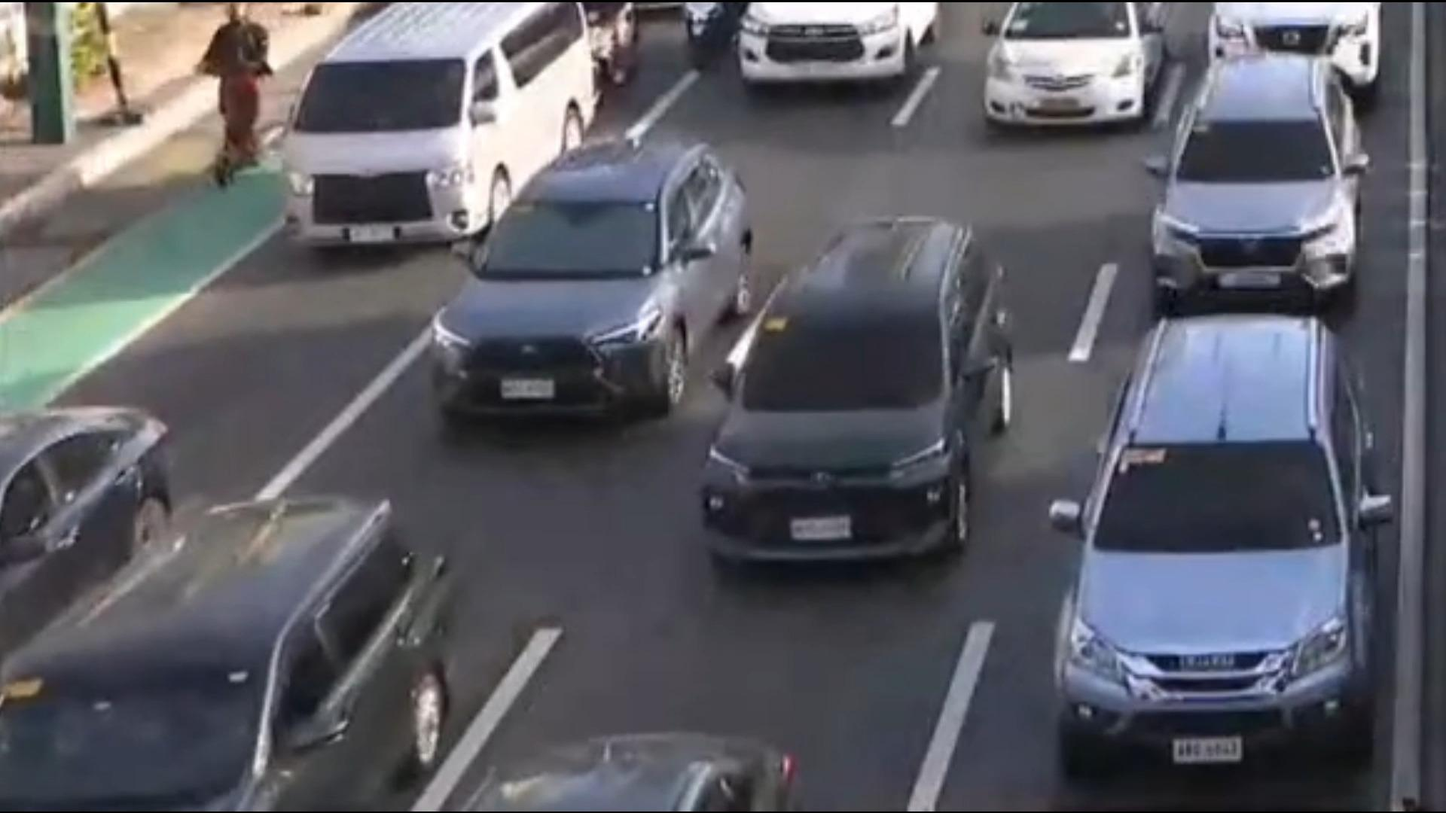SUV: (1046, 312, 1390, 775), (0, 497, 463, 813), (704, 220, 1013, 577), (1146, 56, 1369, 308)
Sedan: (422, 134, 755, 433), (0, 401, 177, 623), (459, 721, 802, 813), (966, 0, 1166, 137)
Van: (281, 0, 600, 271)
